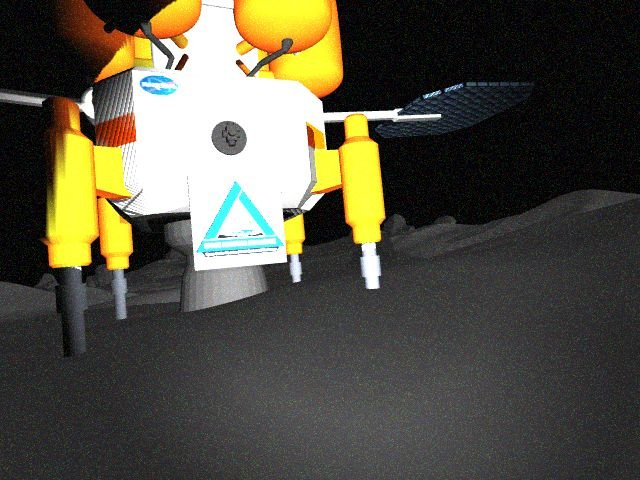basemarker: (195, 180, 284, 257)
